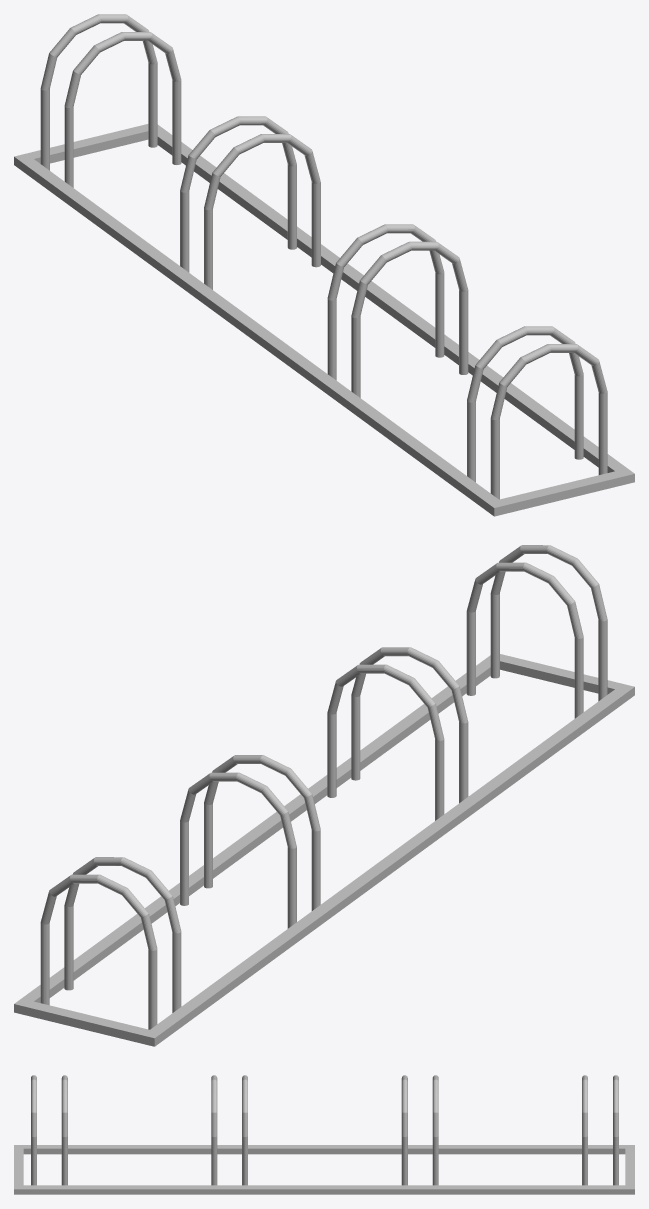
File: BikeRack.fbx
3 views of the same model, one above another, from view 1: azimuth 30°, elevation 25°; view 2: azimuth 150°, elevation 25°; view 3: azimuth 270°, elevation 25° (orthographic). The views are drawn at different scales.
Parts seen in each view (by area): view 1: BikeRack; view 2: BikeRack; view 3: BikeRack.
Part boxes in pixels (x1,y1,x2,y2): BikeRack: (14,14,634,516); BikeRack: (14,545,634,1046); BikeRack: (14,1075,634,1194).
Size of the model in its own units: 0.5255 by 3.11 by 0.5145.
1 material, 1 textured.
